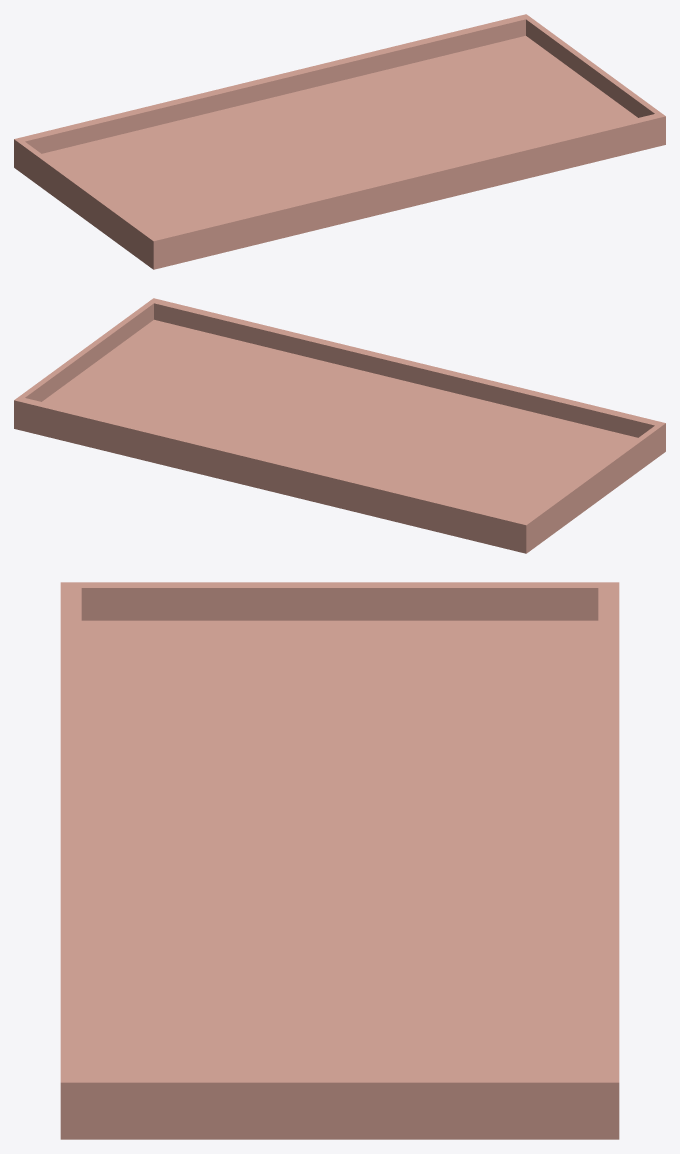
Rendered from tray.fbx.
3 renders of one model, top to bottom at view 1: azimuth 30°, elevation 25°; view 2: azimuth 150°, elevation 25°; view 3: azimuth 270°, elevation 25°, orthographic. The views are drawn at different scales.
Visible parts, largest first — view 1: Boole_5; view 2: Boole_5; view 3: Boole_5.
Boxes of the visible parts, x1=… form: Boole_5: x1=14, y1=14, x2=665, y2=269; Boole_5: x1=14, y1=298, x2=665, y2=553; Boole_5: x1=60, y1=582, x2=619, y2=1139.
Size of the model in its own units: 86.07 by 4.58 by 40.62.
